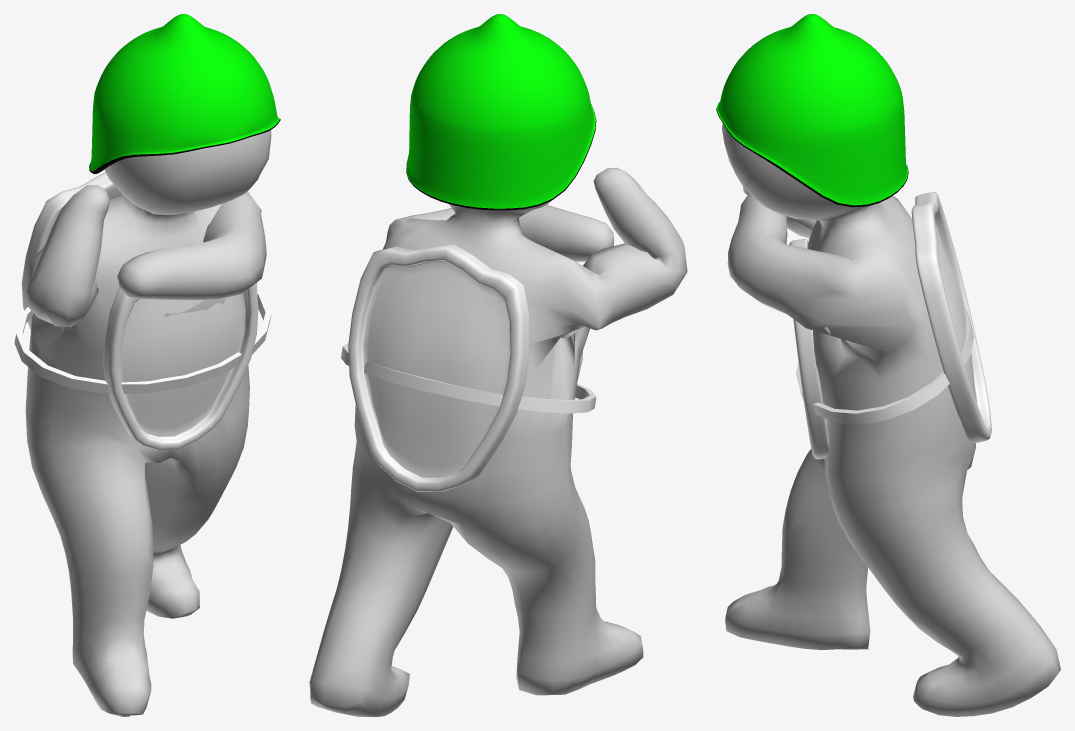
Rendered from jupiter.fbx.
The picture shows the model from 3 angles, left to right: view 1: azimuth 30°, elevation 25°; view 2: azimuth 150°, elevation 25°; view 3: azimuth 270°, elevation 25°; orthographic projection. The views are drawn at different scales.
Visible parts, largest first — view 1: jupiter, helmet, armor_front, armor_connector, armor_back; view 2: jupiter, armor_back, helmet, armor_connector; view 3: jupiter, helmet, armor_back, armor_connector, armor_front.
Part boxes in pixels (x1,y1,x2,y2): jupiter: [25, 130, 271, 716]; helmet: [89, 14, 280, 173]; armor_front: [103, 283, 258, 449]; armor_connector: [14, 287, 271, 393]; armor_back: [21, 172, 122, 330]; jupiter: [309, 167, 687, 716]; armor_back: [348, 245, 529, 491]; helmet: [406, 14, 596, 210]; armor_connector: [341, 343, 596, 413]; jupiter: [722, 123, 1060, 716]; helmet: [716, 14, 908, 207]; armor_back: [911, 192, 991, 443]; armor_connector: [796, 306, 974, 424]; armor_front: [789, 239, 829, 459].
Size of the model in its own units: 0.9662 by 2.13 by 0.9974.
